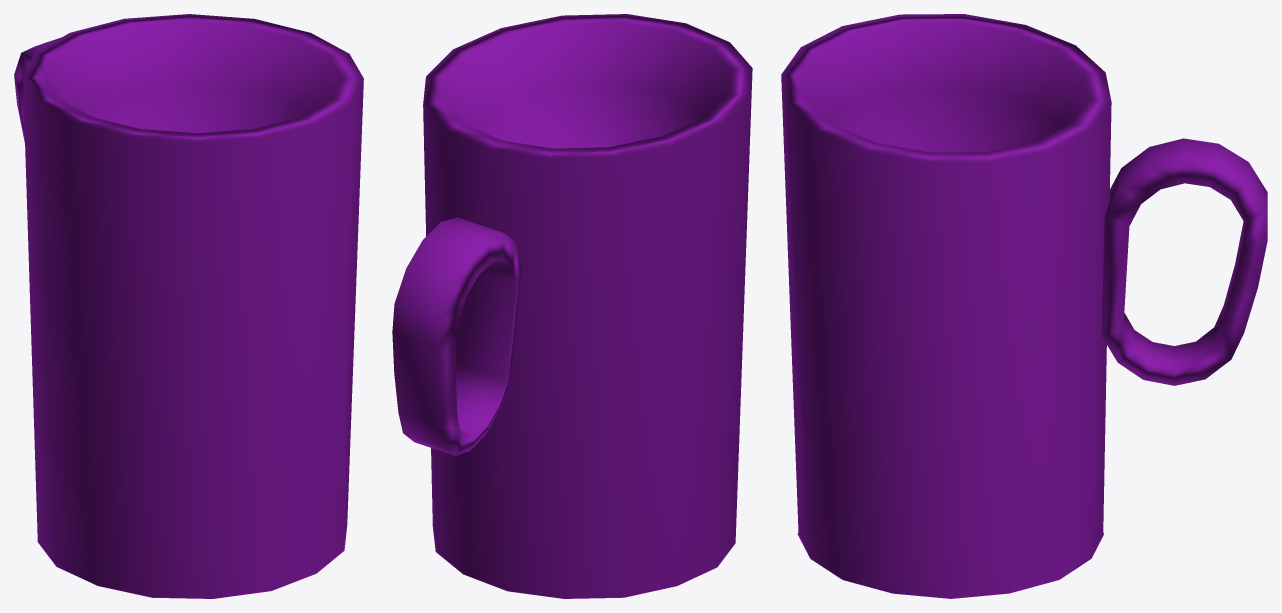
The model's file is Taza11.fbx.
3 renders of one model, left to right at view 1: azimuth 30°, elevation 25°; view 2: azimuth 150°, elevation 25°; view 3: azimuth 270°, elevation 25°, orthographic. The views are drawn at different scales.
Visible parts, largest first — view 1: Taza11; view 2: Taza11; view 3: Taza11.
Part boxes in pixels (x1,y1,x2,y2): Taza11: (14,14,363,598); Taza11: (392,14,752,598); Taza11: (781,14,1267,598).
Bounding box in the file's own units: 13.33 × 20.16 × 19.64.
